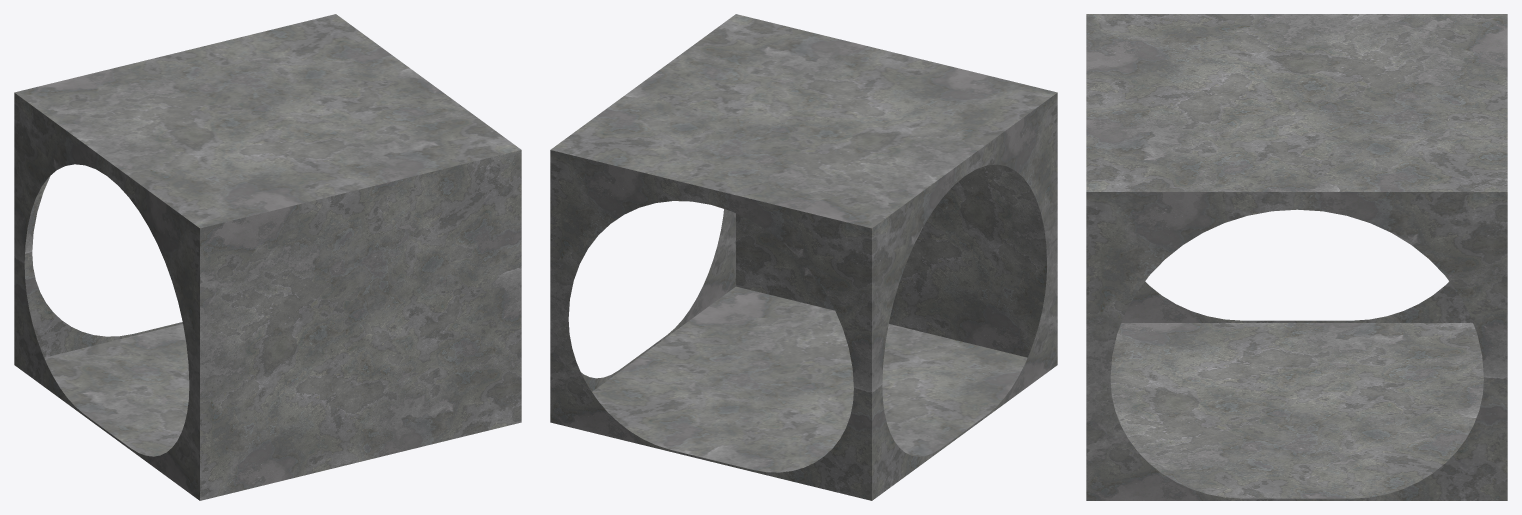
File: room_canal_3_holes.obj
3 renders of one model, left to right at view 1: azimuth 30°, elevation 25°; view 2: azimuth 150°, elevation 25°; view 3: azimuth 270°, elevation 25°, orthographic. The views are drawn at different scales.
Parts seen in each view (by area): view 1: soba_kanal.002_Cube.014; view 2: soba_kanal.002_Cube.014; view 3: soba_kanal.002_Cube.014.
Boxes of the visible parts, box(x1,y1,x2,y2) form: soba_kanal.002_Cube.014: box(14, 14, 521, 500); soba_kanal.002_Cube.014: box(550, 14, 1057, 500); soba_kanal.002_Cube.014: box(1086, 14, 1507, 500).
Size of the model in its own units: 4.51 by 3.65 by 4.51.
